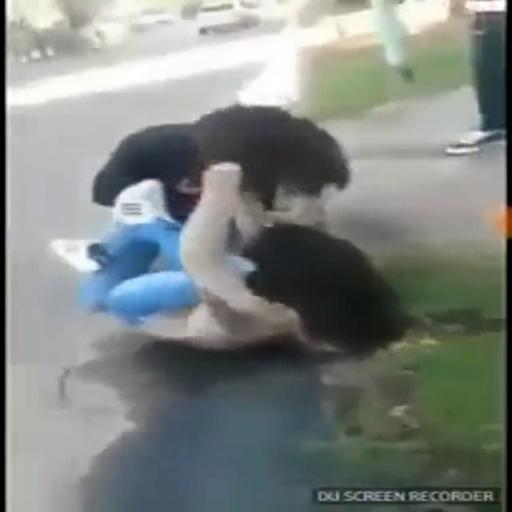violencia: (28, 92, 419, 374)
